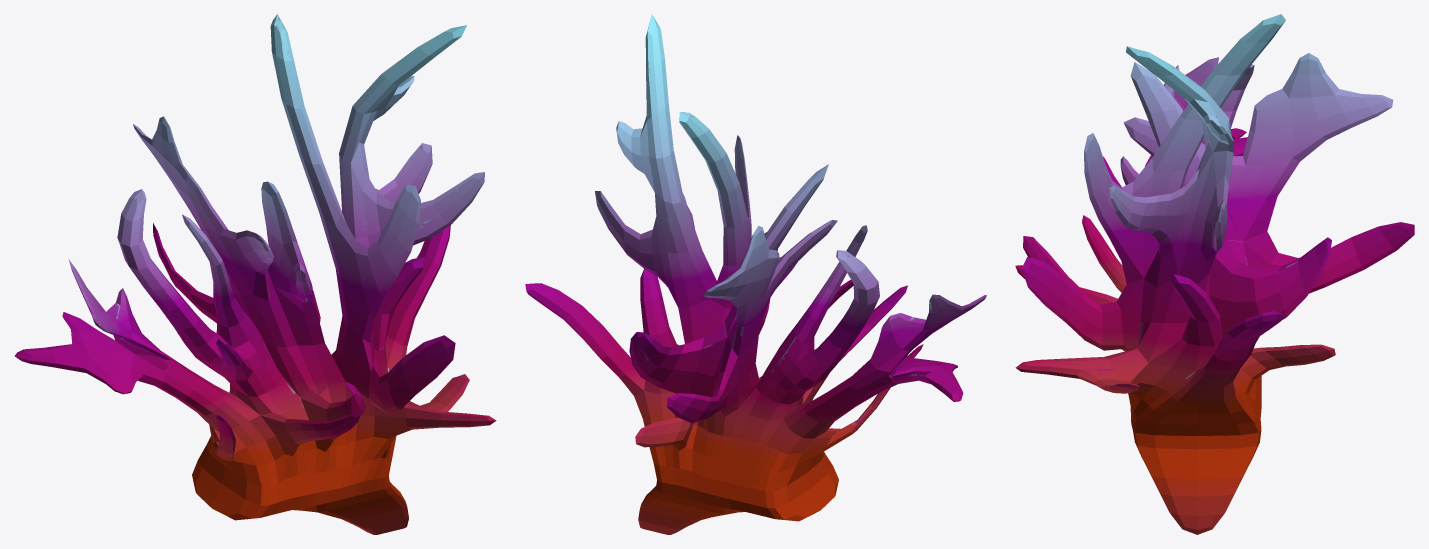
The model's file is SpreadCoral.fbx.
The picture shows the model from 3 angles, left to right: view 1: azimuth 30°, elevation 25°; view 2: azimuth 150°, elevation 25°; view 3: azimuth 270°, elevation 25°; orthographic projection. The views are drawn at different scales.
Parts seen in each view (by area): view 1: Cube; view 2: Cube; view 3: Cube.
Part boxes in pixels (x1,y1,x2,y2): Cube: (14, 14, 496, 534); Cube: (525, 14, 986, 534); Cube: (1015, 14, 1414, 534).
Size of the model in its own units: 126 by 139 by 100.
Materials: 1 (1 with a texture image).
